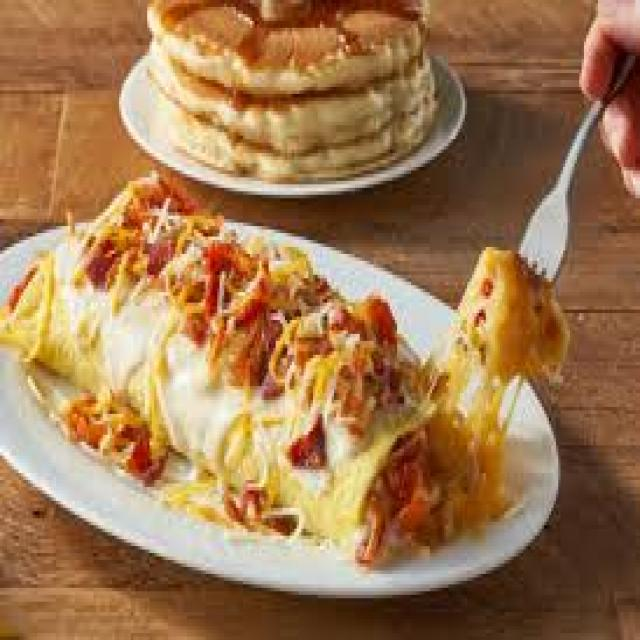Omelette: (2, 170, 576, 589)
Pancakes: (135, 2, 444, 180)
